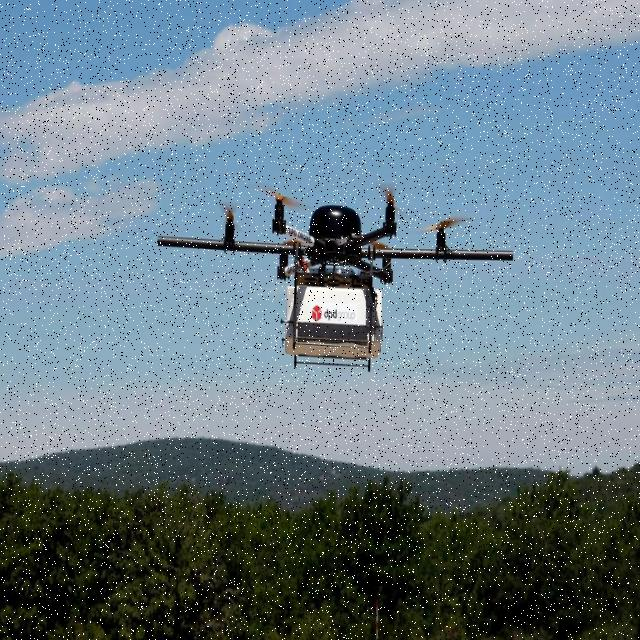UAV: (223, 183, 454, 376)
